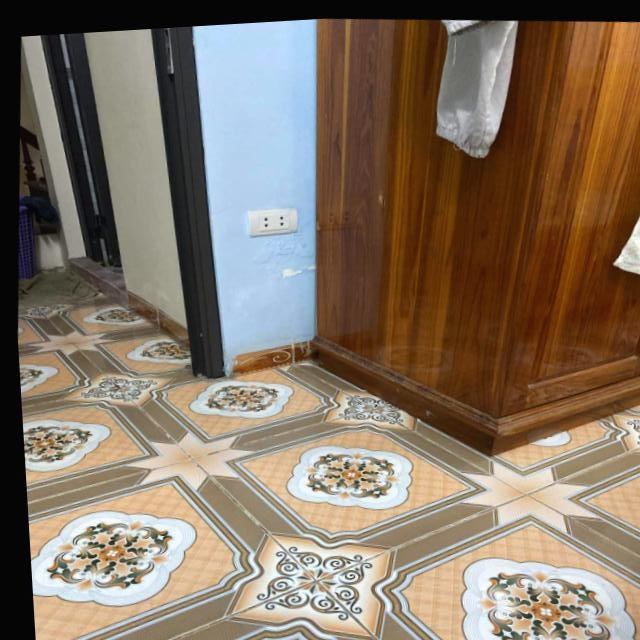outlet: (247, 203, 302, 239)
